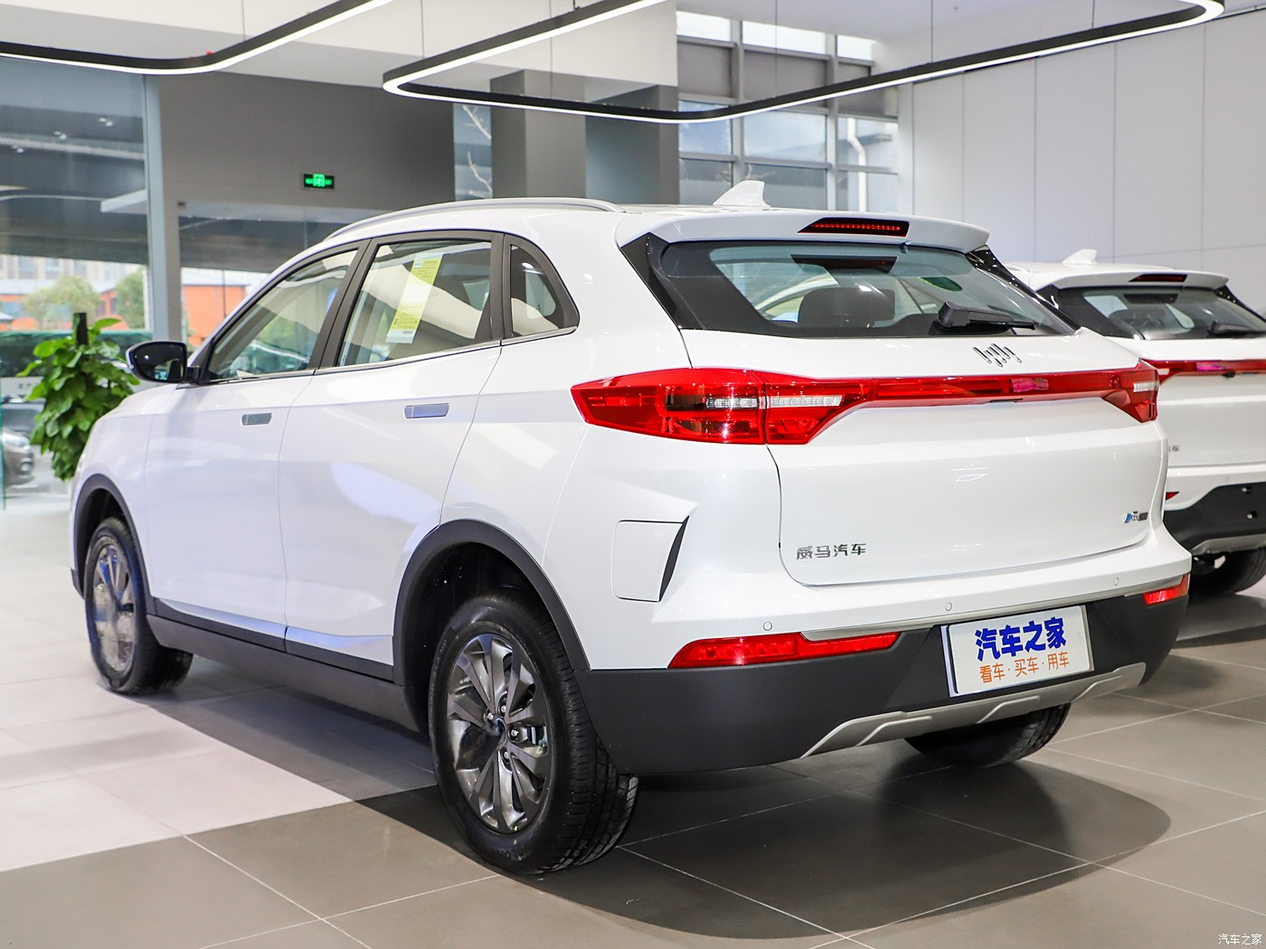WELTMEISTER: (972, 343, 1021, 366)
